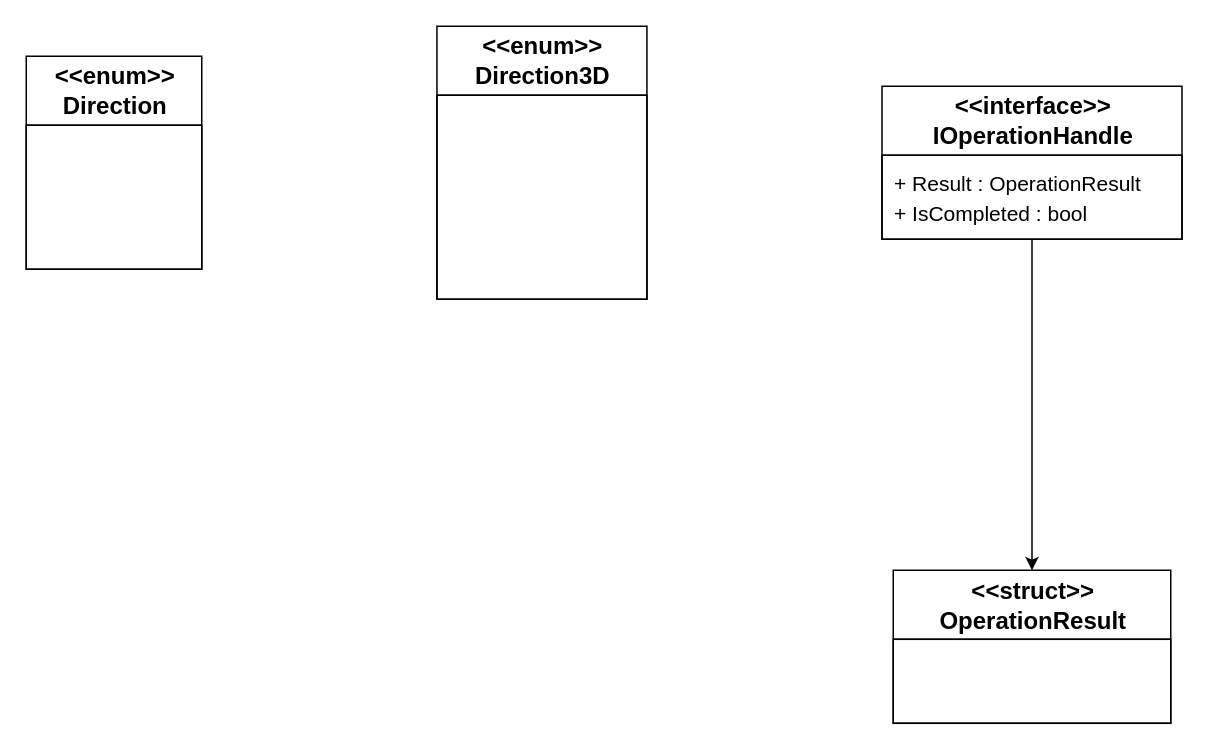
Some shapes in this 1209 by 750 pixel diagram are drawn without their labels. The shapes that lost their labels are listed below. From the top down, each one's centre as x and y in pixels, then its label:
point (113, 196): + Right + Left + Front + Back
point (541, 196): + Right + Left + Up + Down + Front + Back
point (1031, 680): + IsSuccess : bool + ErrorMessage : string
